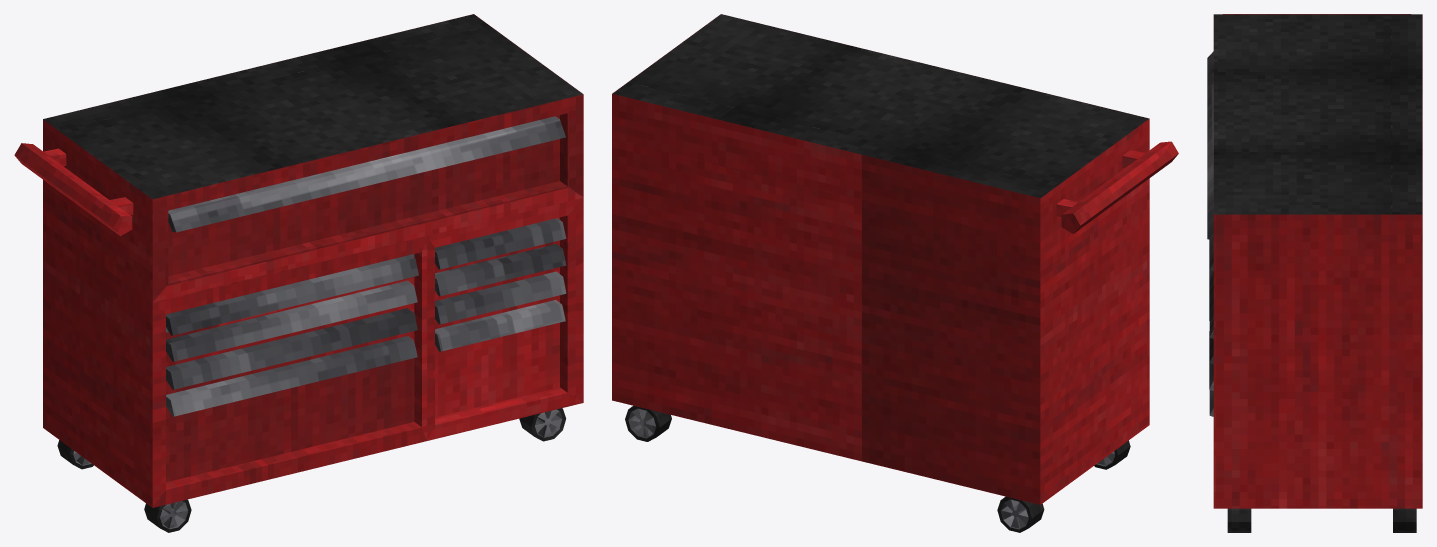
Rendered from Toolcart.glb.
3 views of the same model, side by side, from view 1: azimuth 30°, elevation 25°; view 2: azimuth 150°, elevation 25°; view 3: azimuth 270°, elevation 25° (orthographic). The views are drawn at different scales.
Visible parts, largest first — view 1: pCylinder6; view 2: pCylinder6; view 3: pCylinder6.
Part boxes in pixels (<box>): pCylinder6: <box>14,14,583,532</box>; pCylinder6: <box>612,14,1178,532</box>; pCylinder6: <box>1207,14,1422,532</box>.
Size of the model in its own units: 1.39 by 0.9843 by 0.5844.
1 material, 1 textured.
